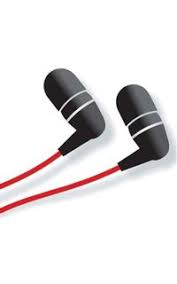earphone: (15, 63, 169, 205)
